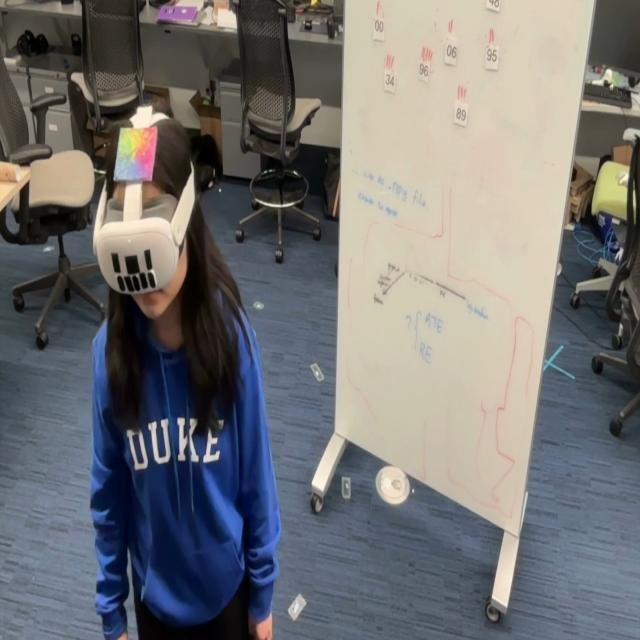Headset: (92, 154, 196, 296)
Marker: (115, 122, 160, 185)
